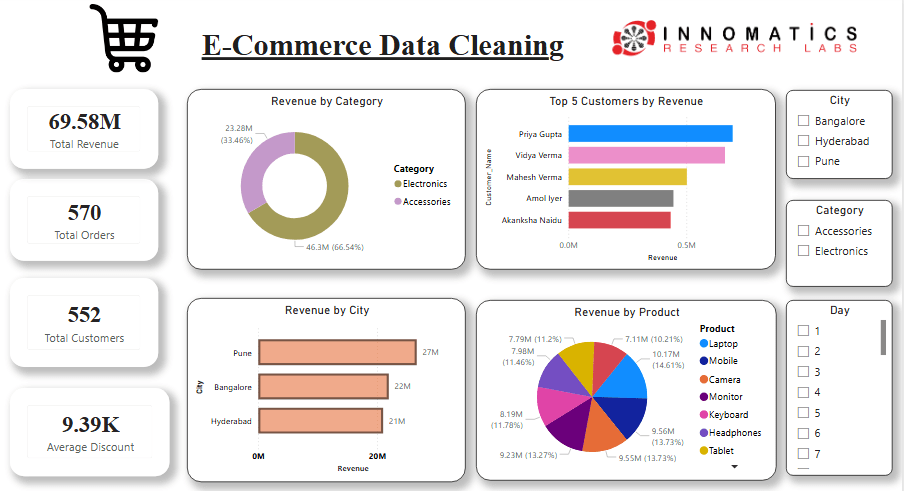

The page's visual inventory and layout, read from the dashboard file:
{"tool":"powerbi","page":{"name":"Page 1","canvas":[1280,720],"ordinal":0},"visuals":[{"type":"textbox","box":[266.7,40,557.8,91.1],"z":0},{"type":"image","box":[860.7,11.5,365.6,96.7],"z":1000},{"type":"image","box":[71.4,11.1,214.3,96.8],"z":2000},{"type":"cardVisual","fields":{"Data":["Sum(Sheet1.Total Amount)"]},"box":[16.4,131.1,209.8,113.1],"z":3000},{"type":"cardVisual","fields":{"Data":["CountNonNull(Sheet1.Order_ID)"]},"box":[16.4,259,209.8,116.4],"z":4000},{"type":"cardVisual","fields":{"Data":["Count(Sheet1.Customer_Name)"]},"box":[16.4,400,209.8,126.2],"z":5000},{"type":"cardVisual","fields":{"Data":["Avg(Sheet1.Discount Amount)"]},"box":[16.4,555.7,226.2,124.6],"z":6000},{"type":"clusteredBarChart","title":"Revenue by City","fields":{"Category":["Sheet1.City"],"Y":["Sum(Sheet1.Total Amount)"]},"box":[267.2,427.9,395.1,260.7],"z":7000},{"type":"donutChart","fields":{"Category":["Sheet1.Category"],"Y":["Sum(Sheet1.Total Amount)"]},"box":[267.2,131.1,395.1,255.7],"z":8000},{"type":"clusteredBarChart","title":"Top 5 Customers by Revenue","fields":{"Category":["Sheet1.Customer_Name"],"Y":["Sum(Sheet1.Total Amount)"]},"box":[677,131.1,424.6,255.7],"z":9000},{"type":"pieChart","title":"Revenue by Product","fields":{"Category":["Sheet1.Product"],"Y":["Sum(Sheet1.Total Amount)"]},"box":[677,431.1,426.2,255.7],"z":10000},{"type":"slicer","title":"City","fields":{"Values":["Sheet1.City"]},"box":[1116.4,132.8,150.8,126.2],"z":11000},{"type":"slicer","title":"Category","fields":{"Values":["Sheet1.Category"]},"box":[1116.4,288.5,150.8,123],"z":12000},{"type":"slicer","title":"Day","fields":{"Values":["Sheet1.Order_Date.Variation.Date Hierarchy.Day"]},"box":[1116.4,431.1,150.8,249.2],"z":13000}]}

Visuals, with their boxes in screenshot pixels (x1, y1, x2, y2):
textbox: region(186, 26, 576, 89)
image: region(601, 6, 857, 73)
image: region(50, 5, 200, 73)
cardVisual - Sum(Sheet1.Total Amount): region(11, 89, 158, 168)
cardVisual - CountNonNull(Sheet1.Order_ID): region(11, 179, 158, 260)
cardVisual - Count(Sheet1.Customer_Name): region(11, 277, 158, 365)
cardVisual - Avg(Sheet1.Discount Amount): region(11, 386, 169, 473)
"Revenue by City" clusteredBarChart: region(187, 297, 463, 479)
donutChart - Sheet1.Category x Sum(Sheet1.Total Amount): region(187, 89, 463, 268)
"Top 5 Customers by Revenue" clusteredBarChart: region(473, 89, 770, 268)
"Revenue by Product" pieChart: region(473, 299, 771, 478)
"City" slicer: region(780, 90, 885, 179)
"Category" slicer: region(780, 199, 885, 285)
"Day" slicer: region(780, 299, 885, 473)
